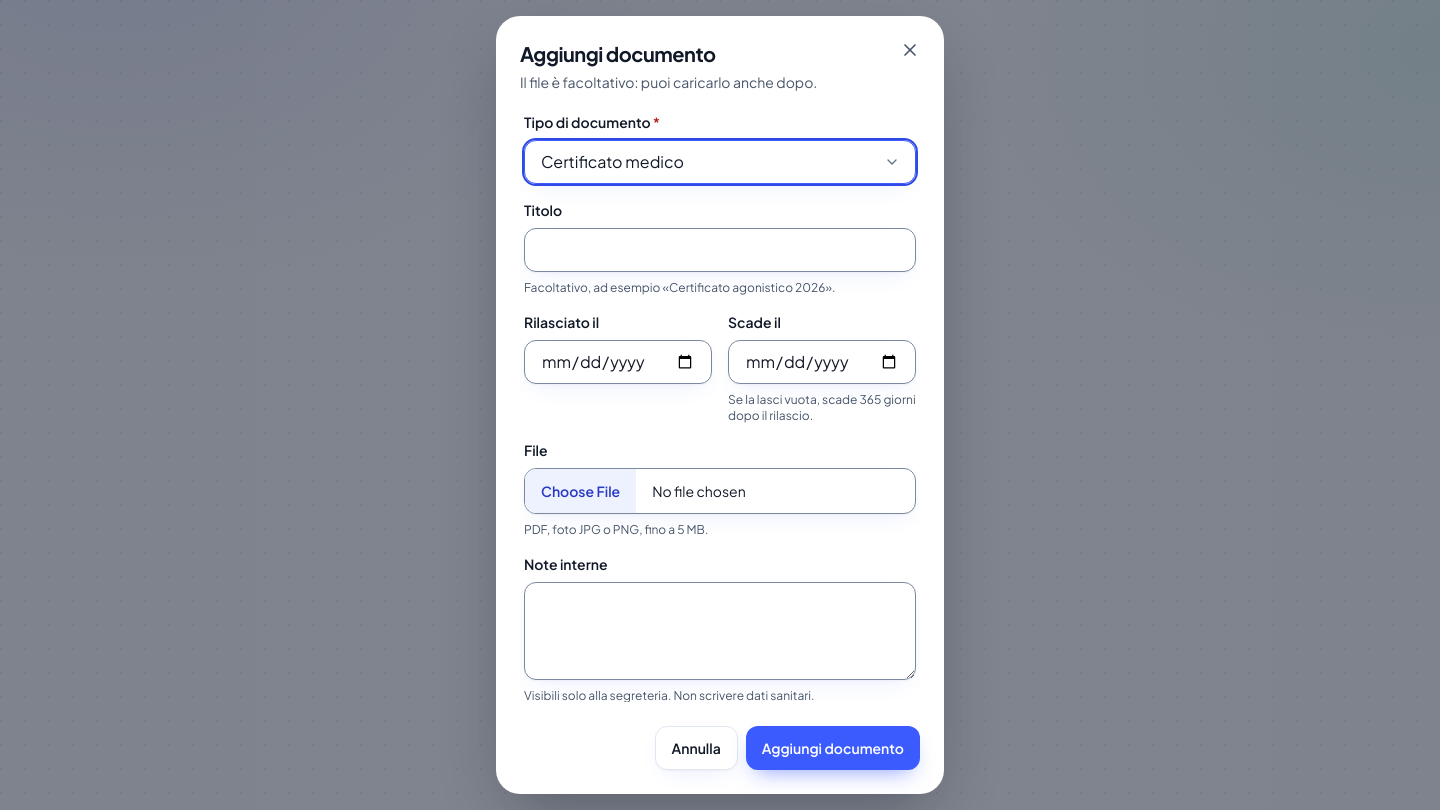
Test: DocumentFormDialog › asks for the expiry date when the type needs one and nothing can be derived
Click the button "Aggiungi documento" at point(833, 748), box [746,726,920,770]
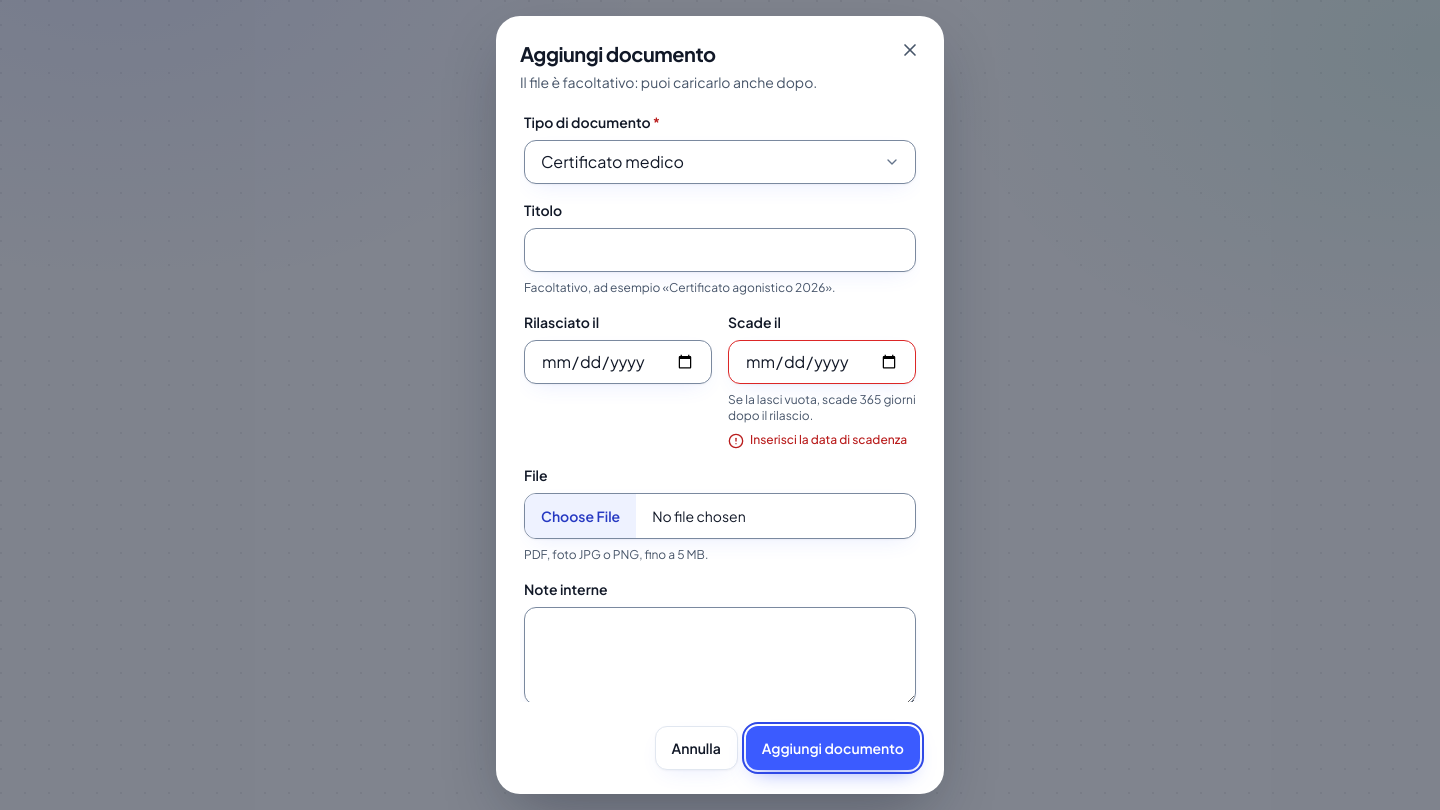
Expected: the text "Inserisci la data di scadenza" is shown, [750,432,907,448]
